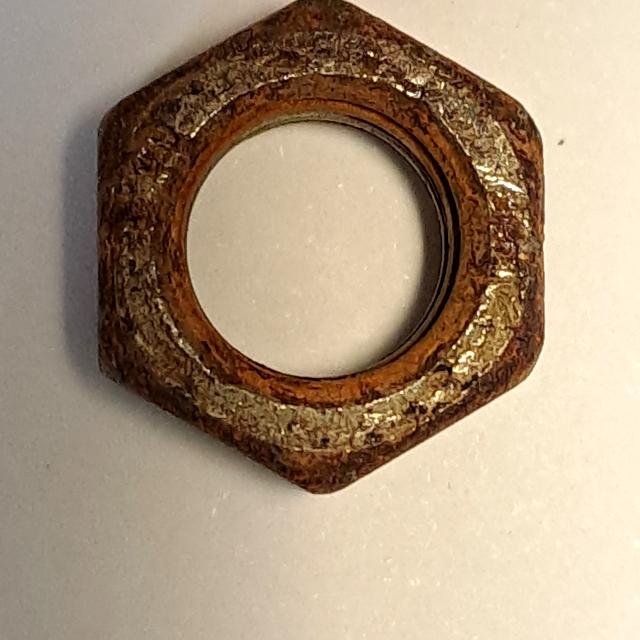Rust: (87, 1, 558, 519)
